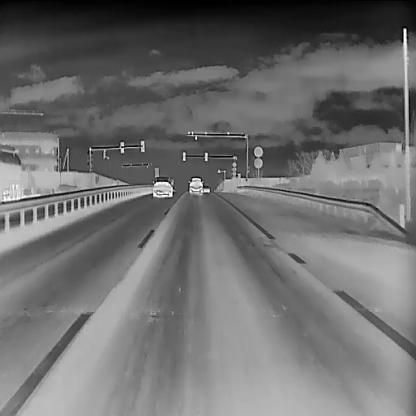car: (151, 174, 173, 197), (188, 174, 204, 192), (202, 184, 210, 192)
truck: (0, 141, 22, 202)
